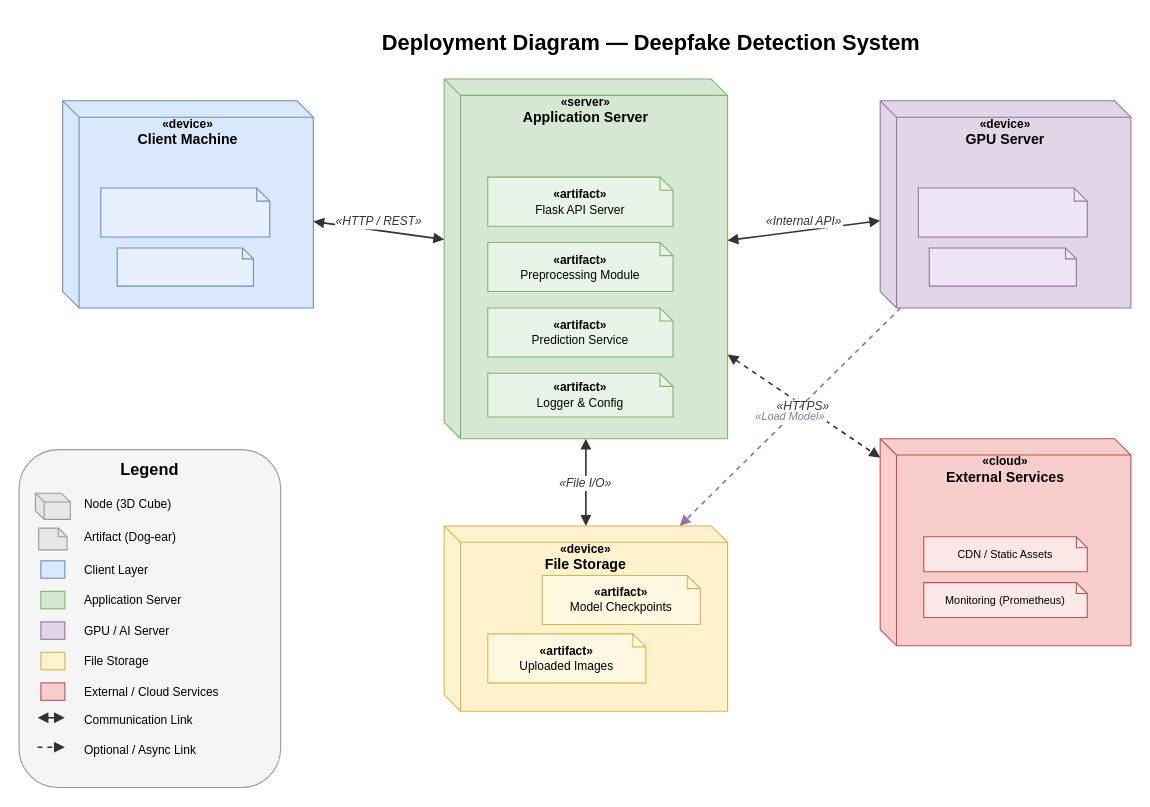
Image size: 1150x807. Some labels were removed from this diagram. Here are the shapes that lost their labels. From the top down, the centre of each, then its label:
[185,212]: «artifact» Web Browser
[1002,212]: «artifact» PyTorch Runtime
[184,266]: HTML / CSS / JS
[1002,266]: EfficientNet Model (.pth)
